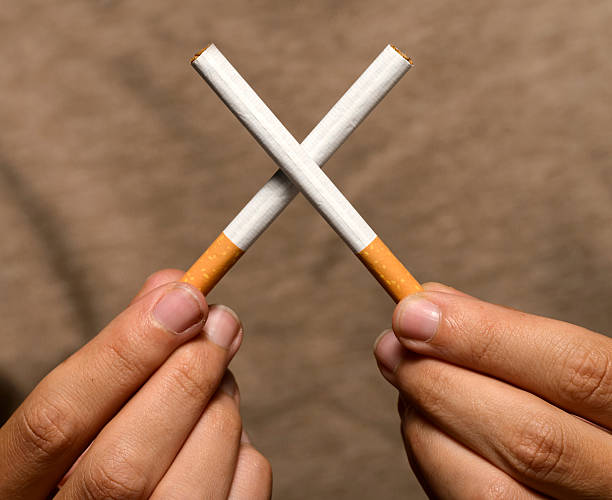cigarette: (189, 39, 424, 304), (178, 41, 414, 299)
